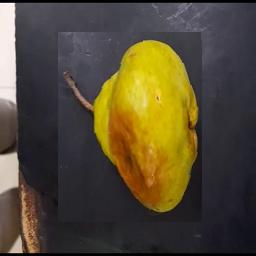Pear Rotten: (59, 32, 203, 222)
